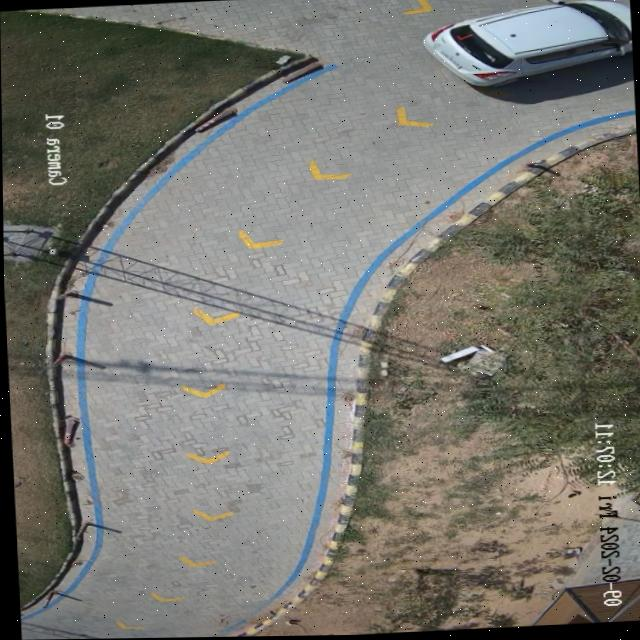car: (422, 0, 632, 88)
